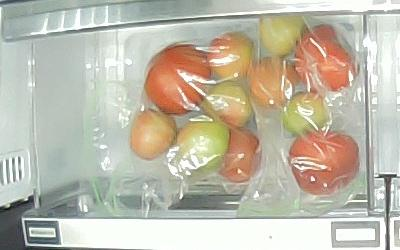tomato_vinyl: (143, 43, 212, 115), (293, 24, 359, 93), (290, 131, 359, 195), (167, 118, 230, 180), (248, 55, 299, 110), (129, 109, 179, 161), (217, 127, 263, 183), (202, 81, 251, 127), (208, 33, 254, 81), (282, 93, 332, 137), (258, 16, 308, 54)
